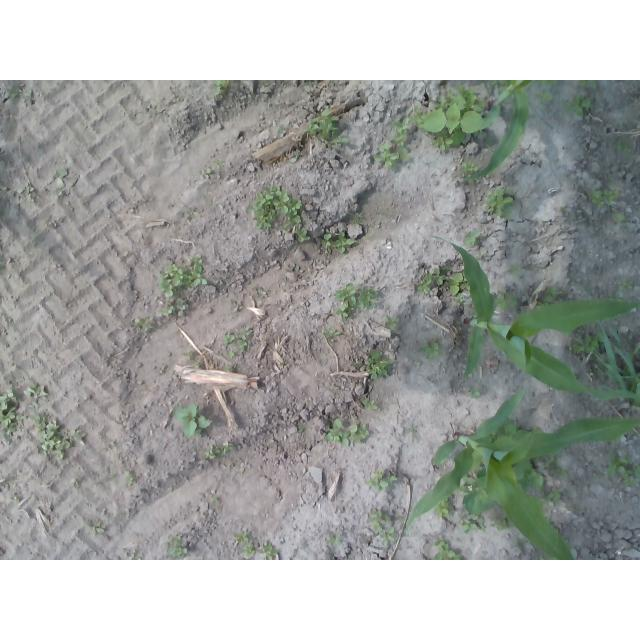Maize: (406, 390, 640, 560), (430, 233, 640, 401), (465, 80, 531, 186)
Weeds: (409, 84, 488, 153), (246, 186, 310, 243), (30, 412, 83, 461), (415, 265, 469, 308), (157, 255, 207, 297), (373, 117, 411, 169), (303, 109, 349, 148), (332, 283, 378, 317), (173, 403, 212, 438), (605, 449, 640, 488), (323, 418, 369, 447), (0, 388, 24, 443), (366, 508, 396, 548), (483, 187, 514, 222), (366, 349, 394, 380), (570, 330, 606, 354), (320, 228, 354, 253), (563, 92, 595, 118), (430, 536, 462, 561), (223, 329, 250, 358), (365, 470, 398, 491), (490, 509, 517, 532), (587, 189, 619, 208), (521, 468, 545, 493), (202, 443, 234, 461), (26, 383, 48, 409), (537, 486, 564, 507), (167, 534, 189, 559), (201, 157, 224, 180), (433, 494, 454, 519), (460, 514, 487, 533), (0, 184, 32, 200), (495, 290, 518, 312), (156, 299, 184, 317), (418, 338, 439, 360), (540, 285, 563, 304), (258, 540, 278, 560), (548, 460, 569, 479), (535, 88, 554, 106), (460, 159, 479, 177), (135, 316, 154, 333), (85, 520, 104, 536), (7, 86, 32, 98), (488, 80, 509, 94), (463, 229, 480, 246), (614, 138, 631, 155), (212, 80, 229, 97), (347, 209, 365, 225), (384, 315, 400, 330), (609, 212, 625, 227), (465, 386, 482, 400), (323, 327, 341, 339), (241, 543, 255, 557), (363, 398, 378, 411), (327, 534, 341, 547), (619, 279, 634, 291), (577, 80, 596, 89), (508, 264, 520, 277), (234, 532, 248, 543), (57, 167, 68, 181), (123, 471, 133, 485), (515, 538, 525, 551), (534, 80, 558, 85), (598, 365, 606, 380), (290, 150, 299, 162), (127, 553, 142, 560), (478, 253, 489, 260), (188, 209, 196, 218), (184, 350, 193, 357), (303, 80, 313, 86), (224, 366, 232, 373), (297, 424, 304, 432), (559, 205, 566, 212), (13, 496, 19, 503), (210, 496, 218, 501), (239, 468, 244, 474), (276, 126, 280, 133)
